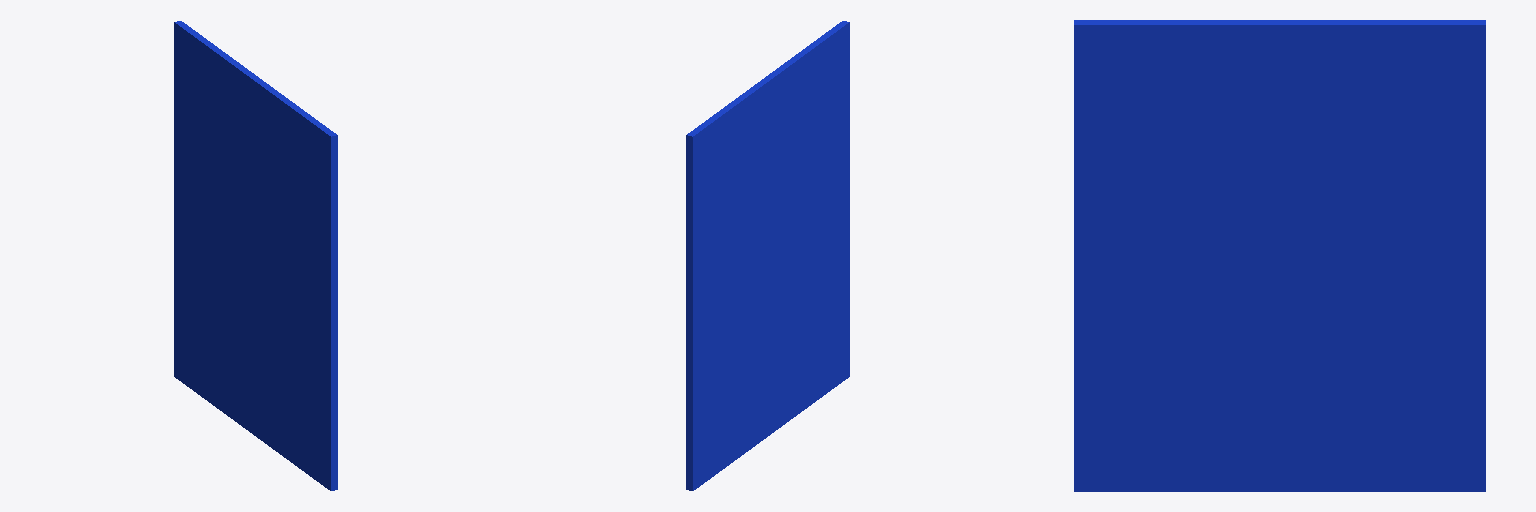
robot.urdf — board_blue:
<?xml version="1.0"?>
<robot name="board_blue">
  <material name="blue">
    <color rgba="0.150 0.320 0.880 1.000"/>
  </material>

  <link name="base_link">
    <inertial>
      <mass value="1.0"/>
      <origin xyz="0 0 0.5" rpy="0 0 0"/>
      <inertia ixx="2.17" ixy="0" ixz="0" iyy="0.083" iyz="0" izz="2.08"/>
    </inertial>

    <visual>
      <origin xyz="0 0 0.5" rpy="0 0 0"/>
      <geometry>
        <box size="0.02 0.8 1.0"/>
      </geometry>
      <material name="blue"/>
    </visual>

    <collision>
      <origin xyz="0 0 0.5" rpy="0 0 0"/>
      <geometry>
        <box size="0.02 0.8 1.0"/>
      </geometry>
    </collision>
  </link>
</robot>

--- What the picture shows (computed from the rendered views, not written in the file) ---
The picture shows the robot from 3 angles, left to right: view 1: azimuth 30°, elevation 25°; view 2: azimuth 150°, elevation 25°; view 3: azimuth 270°, elevation 25°; orthographic projection.
Model board_blue with 1 links and 0 joints (none), rooted at base_link, posed all joints at 0.
Visible links, largest first — view 1: base_link; view 2: base_link; view 3: base_link.
Link boxes in pixels (<box>): base_link: <box>174,21,337,490</box>; base_link: <box>686,21,849,490</box>; base_link: <box>1074,20,1485,491</box>.
Bounding box of the posed robot: 0.02 × 0.8 × 1 m (x, y, z).
Geometry: primitives only (box / cylinder / sphere), no mesh files.
